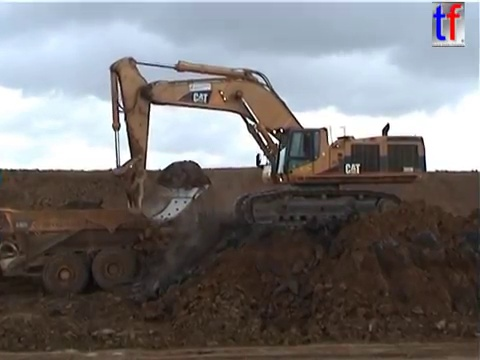excavator: (106, 53, 429, 233)
truck: (1, 205, 178, 297)
